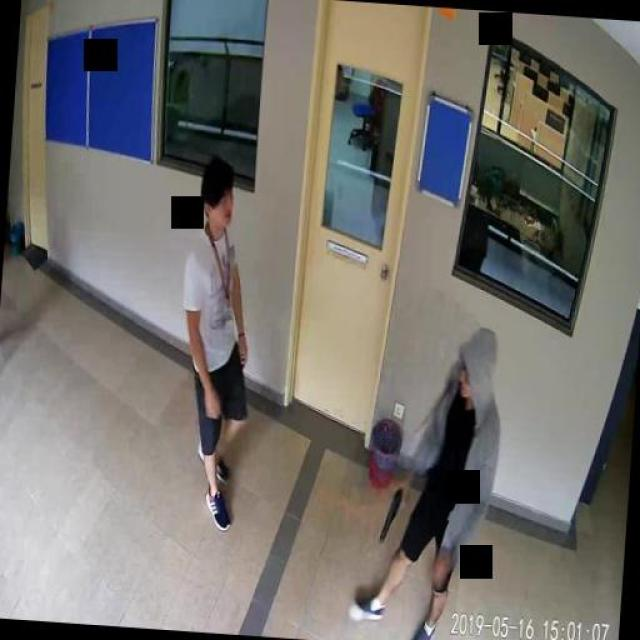gun: (379, 480, 405, 541)
